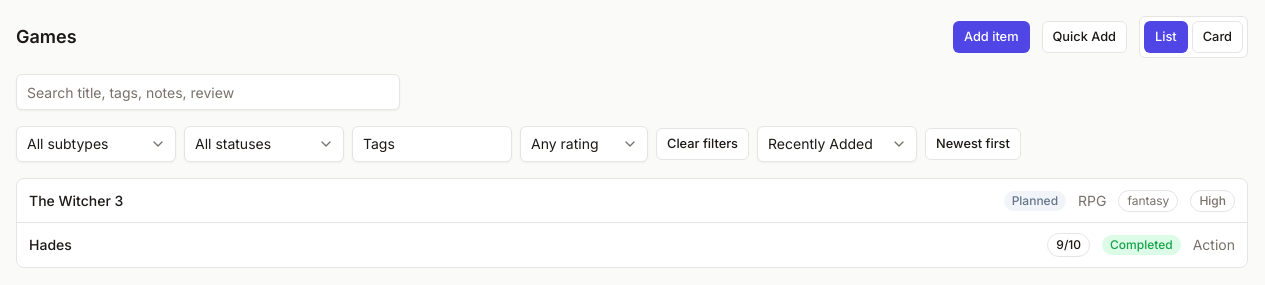
it: LibraryView › Clear filters resets Subtype/Status/Tags/Rating in one action and restores the full unfiltered list
Select "Completed" in the dropdown named "Status": point(264, 144) [184,126,344,162]
Wait 300 ms
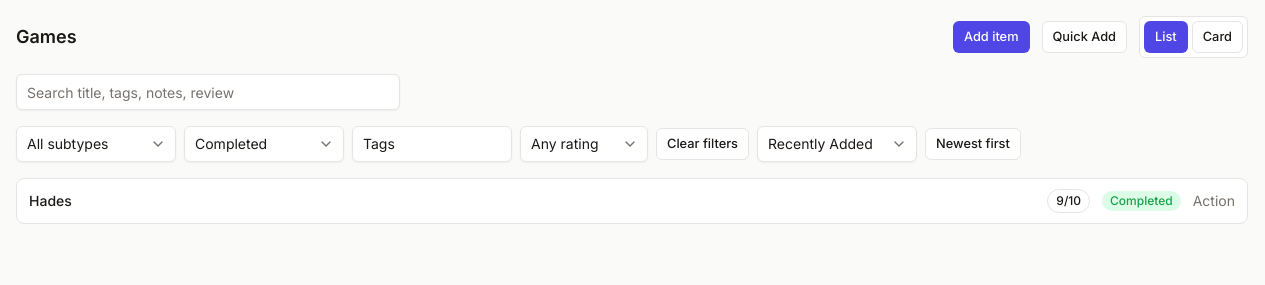
Check: the link "Hades 9/10 Completed Action" is shown, box [29,189,1235,212]
Check: the link "The Witcher 3" is gone
Click the button "Clear filters": point(702, 144) [656,128,749,160]
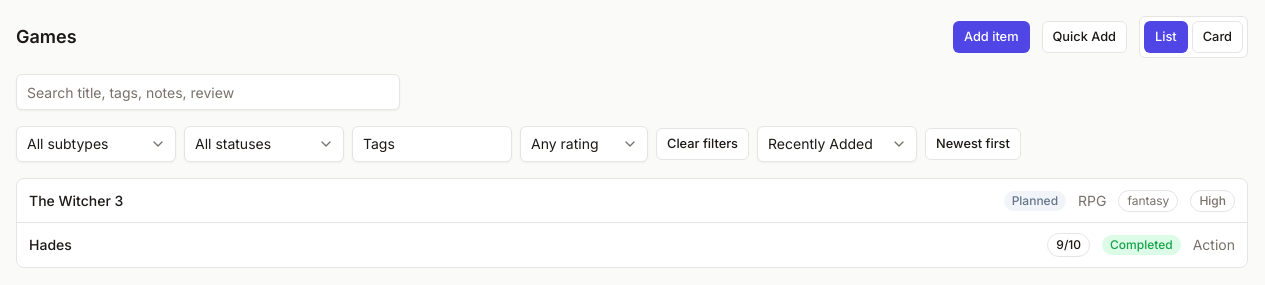
Check: the link "Hades 9/10 Completed Action" is shown, box [29,233,1235,256]
Check: the link "The Witcher 3 Planned RPG fantasy High" is shown, box [17,179,1247,223]
